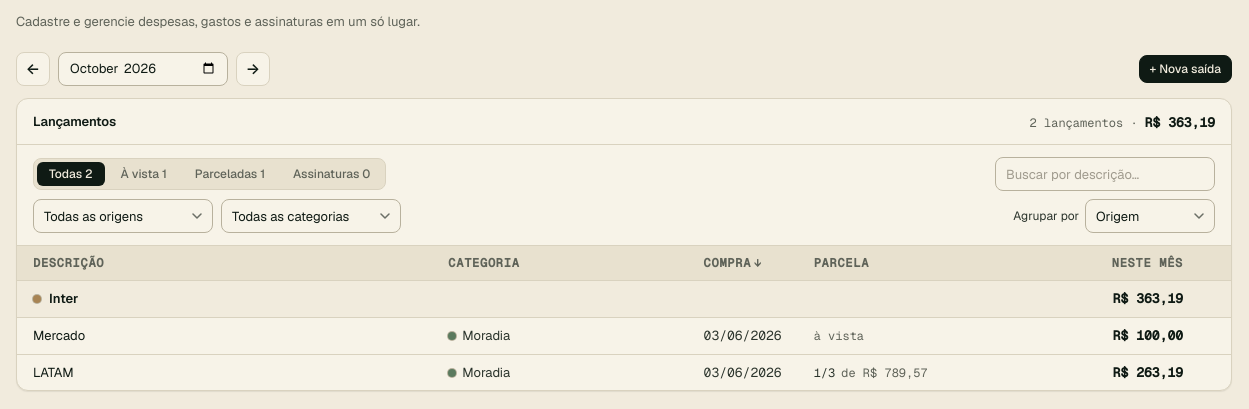
Test: SaidasPage — linhas e topo do painel › com filtro de tipo, o topo diz quantos de quantos
Check: the row "LATAM Moradia 03/06/2026 1/3 de R$ 789,57 R$ 263,19" is shown, box [17,354,1231,390]
Step 1. Click the radio button labelled "Parceladas 1" → (230, 174), box [183,162,277,186]
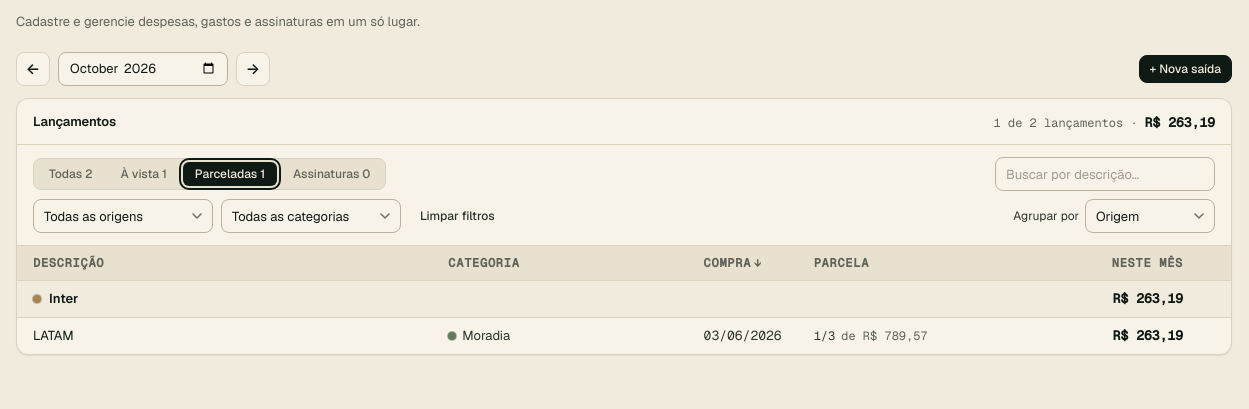
Check: the text "1 de 2 lançamentos" is shown, box [994,114,1123,130]
